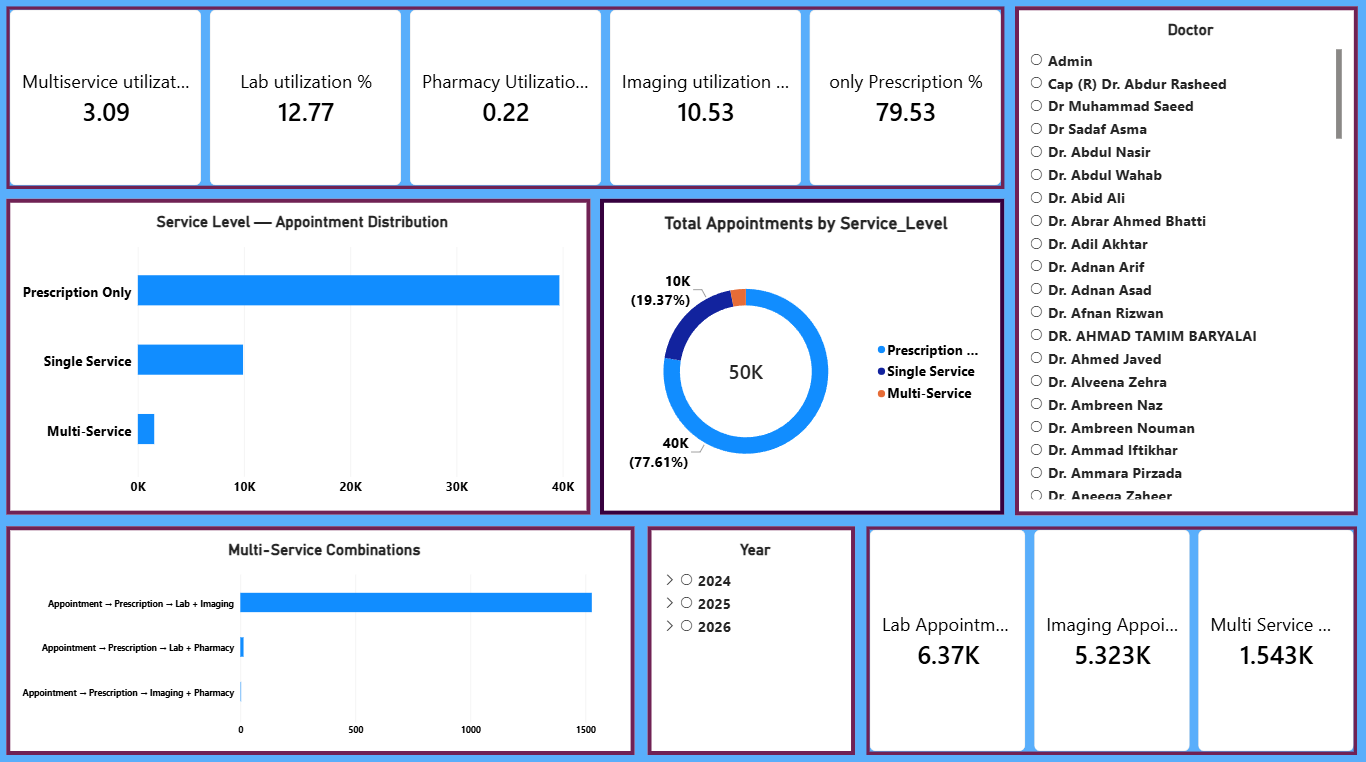

This screenshot's page, from the dashboard's own definition file:
{"tool":"powerbi","page":{"name":"Page 2","canvas":[1920,1080],"ordinal":1},"visuals":[{"type":"clusteredBarChart","title":"Multi-Service Combinations","fields":{"Y":["cleaned_HospitalOPD-noname.Total Appointments"],"Category":["cleaned_HospitalOPD-noname.flow_name"]},"box":[14.9,740.4,876.6,319.1],"z":0},{"type":"donutChart","fields":{"Y":["cleaned_HospitalOPD-noname.Total Appointments"],"Category":["cleaned_HospitalOPD-noname.Service_Level"]},"box":[844.7,285.1,563.8,440.4],"z":1},{"type":"clusteredBarChart","title":" Service Level — Appointment Distribution","fields":{"Y":["cleaned_HospitalOPD-noname.Total Appointments"],"Category":["cleaned_HospitalOPD-noname.Service_Level"]},"box":[14.9,285.1,814.9,440.4],"z":2},{"type":"listSlicer","title":"Doctor","fields":{"Values":["cleaned_HospitalOPD-noname.prescription_doctor_name"]},"box":[1423.4,14.9,478.7,710.6],"z":3},{"type":"listSlicer","fields":{"Values":["cleaned_HospitalOPD-noname.appointment_start_datetime.Variation.Date Hierarchy.Year","cleaned_HospitalOPD-noname.appointment_start_datetime.Variation.Date Hierarchy.Month"]},"box":[910.6,740.4,289.4,319.1],"z":4},{"type":"cardVisual","fields":{"Data":["cleaned_HospitalOPD-noname.Lab Appointments","cleaned_HospitalOPD-noname.Imaging Appointment","cleaned_HospitalOPD-noname.Multi Service utilization"]},"box":[1214.9,740.4,687.2,319.1],"z":5},{"type":"cardVisual","fields":{"Data":["cleaned_HospitalOPD-noname.Multiservice utilization %","cleaned_HospitalOPD-noname.Lab utilization %","cleaned_HospitalOPD-noname.Pharmacy Utilization %","cleaned_HospitalOPD-noname.Imaging utilization %","cleaned_HospitalOPD-noname.only Prescription %"]},"box":[14.9,14.9,1393.6,255.3],"z":7}]}

Visuals, with their boxes in screenshot pixels (x1, y1, x2, y2), scaled from the page's 1920x1080 canvas onto the 1366x762 screenshot:
"Multi-Service Combinations" clusteredBarChart: {"x1": 11, "y1": 522, "x2": 634, "y2": 748}
donutChart - cleaned_HospitalOPD-noname.Total Appointments x cleaned_HospitalOPD-noname.Service_Level: {"x1": 601, "y1": 201, "x2": 1002, "y2": 512}
" Service Level — Appointment Distribution" clusteredBarChart: {"x1": 11, "y1": 201, "x2": 590, "y2": 512}
"Doctor" listSlicer: {"x1": 1013, "y1": 11, "x2": 1353, "y2": 512}
listSlicer - cleaned_HospitalOPD-noname.appointment_start_datetime.Variation.Date Hierarchy.Year x cleaned_HospitalOPD-noname.appointment_start_datetime.Variation.Date Hierarchy.Month: {"x1": 648, "y1": 522, "x2": 854, "y2": 748}
cardVisual - cleaned_HospitalOPD-noname.Lab Appointments x cleaned_HospitalOPD-noname.Imaging Appointment: {"x1": 864, "y1": 522, "x2": 1353, "y2": 748}
cardVisual - cleaned_HospitalOPD-noname.Multiservice utilization % x cleaned_HospitalOPD-noname.Lab utilization %: {"x1": 11, "y1": 11, "x2": 1002, "y2": 191}
